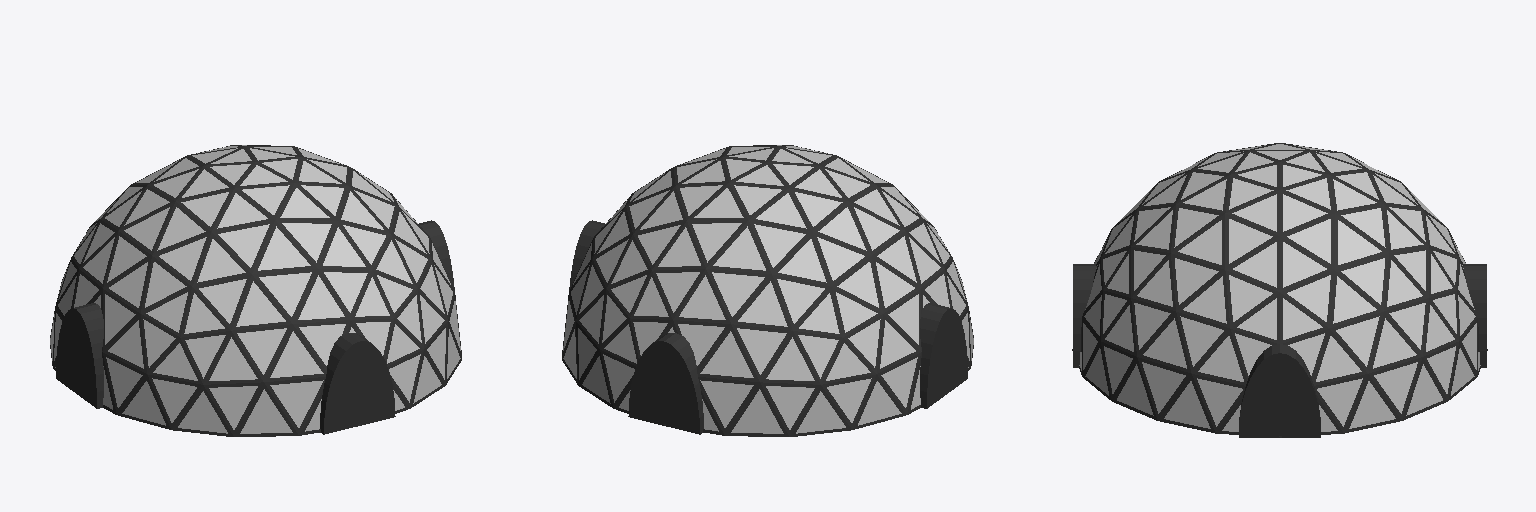
File: growhouse.obj
3 renders of one model, left to right at view 1: azimuth 30°, elevation 25°; view 2: azimuth 150°, elevation 25°; view 3: azimuth 270°, elevation 25°, orthographic.
Visible parts, largest first — view 1: Glass, Framework; view 2: Glass, Framework; view 3: Glass, Framework.
Boxes of the visible parts, x1,y1,x2,y2 form: Glass: [50, 145, 460, 433]; Framework: [50, 145, 461, 436]; Glass: [563, 145, 973, 433]; Framework: [562, 145, 973, 436]; Glass: [1079, 144, 1480, 431]; Framework: [1072, 143, 1487, 437].
Bounding box in the file's own units: 10.02 × 5.01 × 10.02.